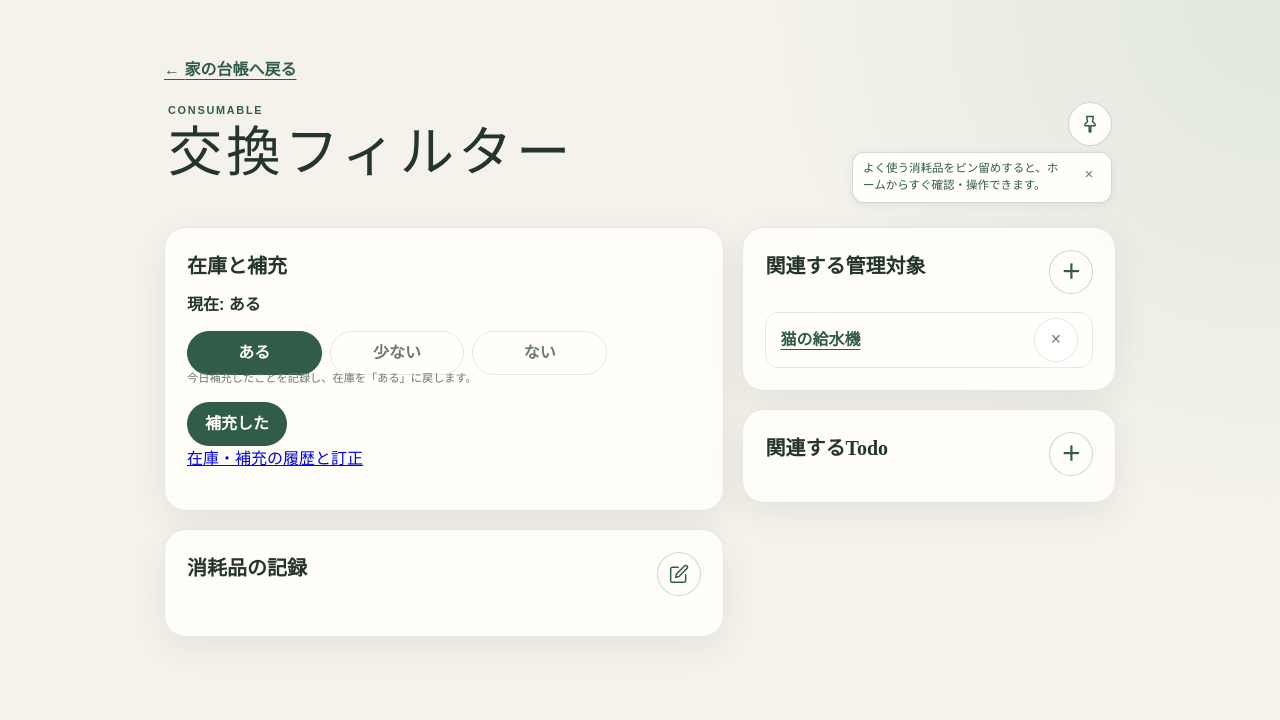
Test case: 消耗品詳細の関連編集 (Issue #311) › 関連するTodoを追加でき、候補は関連する管理対象を手掛かりに探す
The width and height of the screenshot is (1280, 720).
Click the button named "Todoを追加" at (1071, 454), box [1049, 432, 1093, 476]
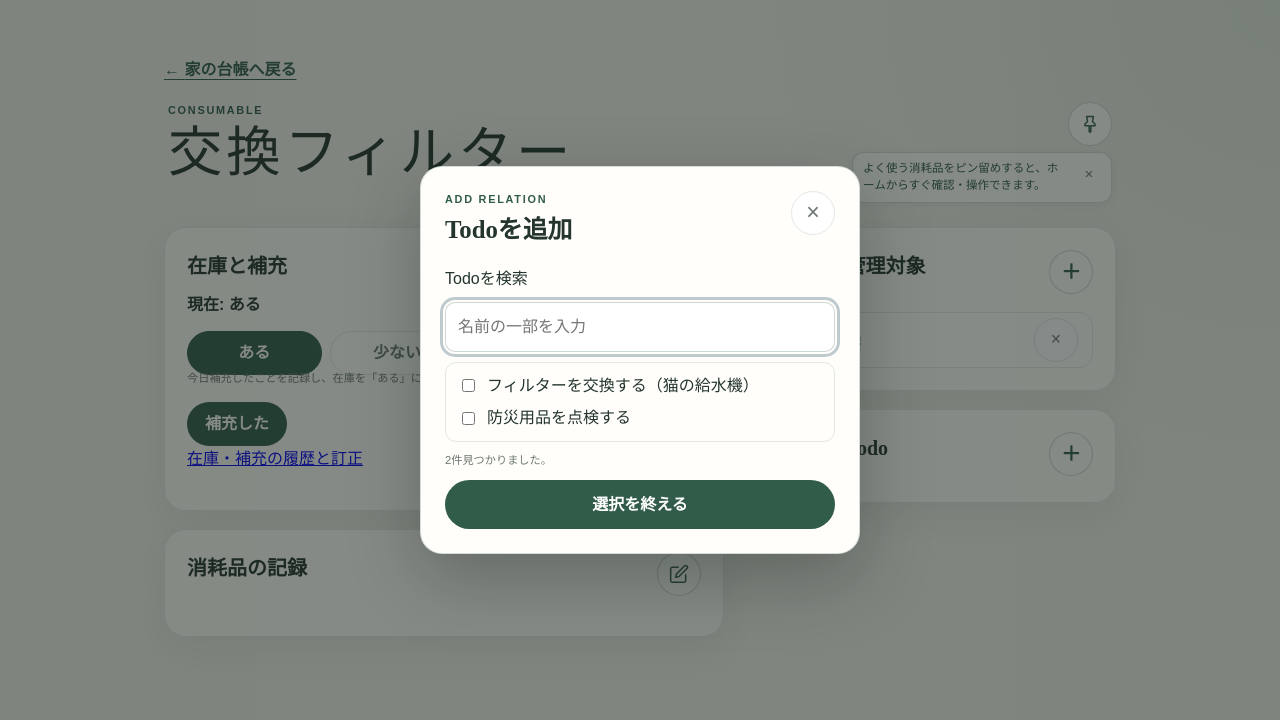
Click the checkbox labelled "フィルターを交換する（猫の給水機）" at (468, 386), box [462, 379, 475, 392]
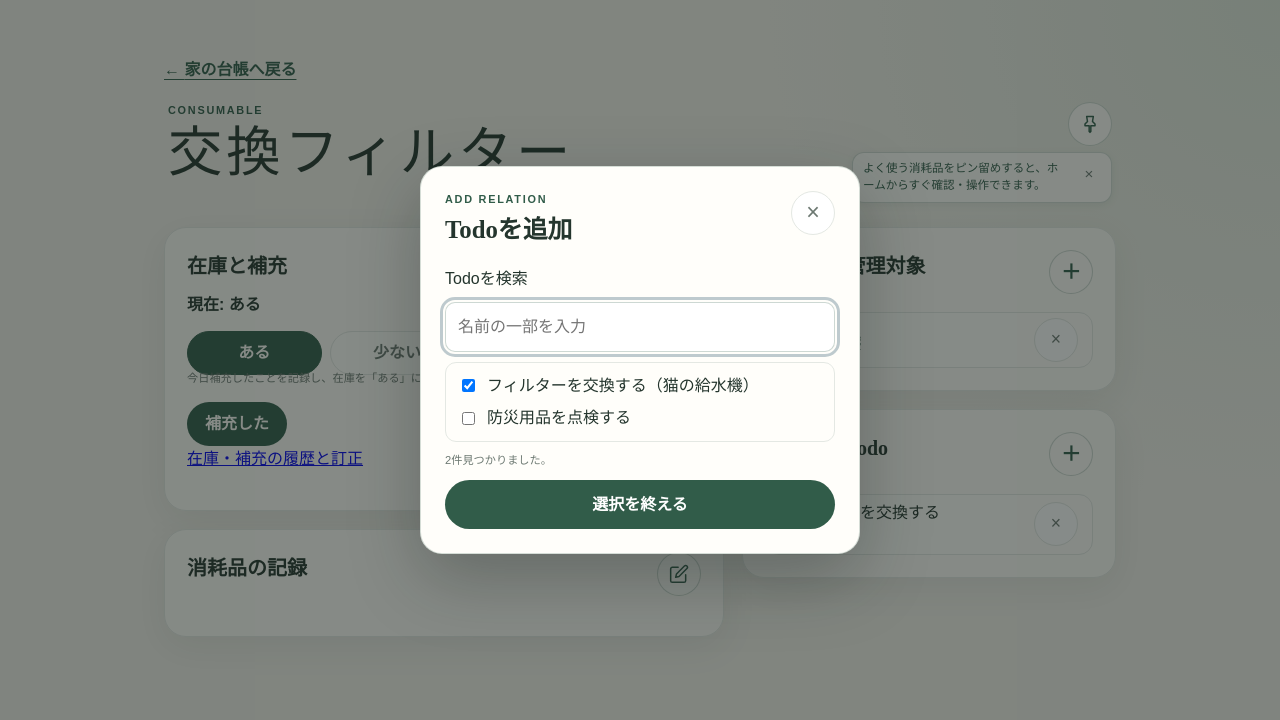
Now the text "フィルターを交換する" is shown, box [780, 504, 940, 520]
